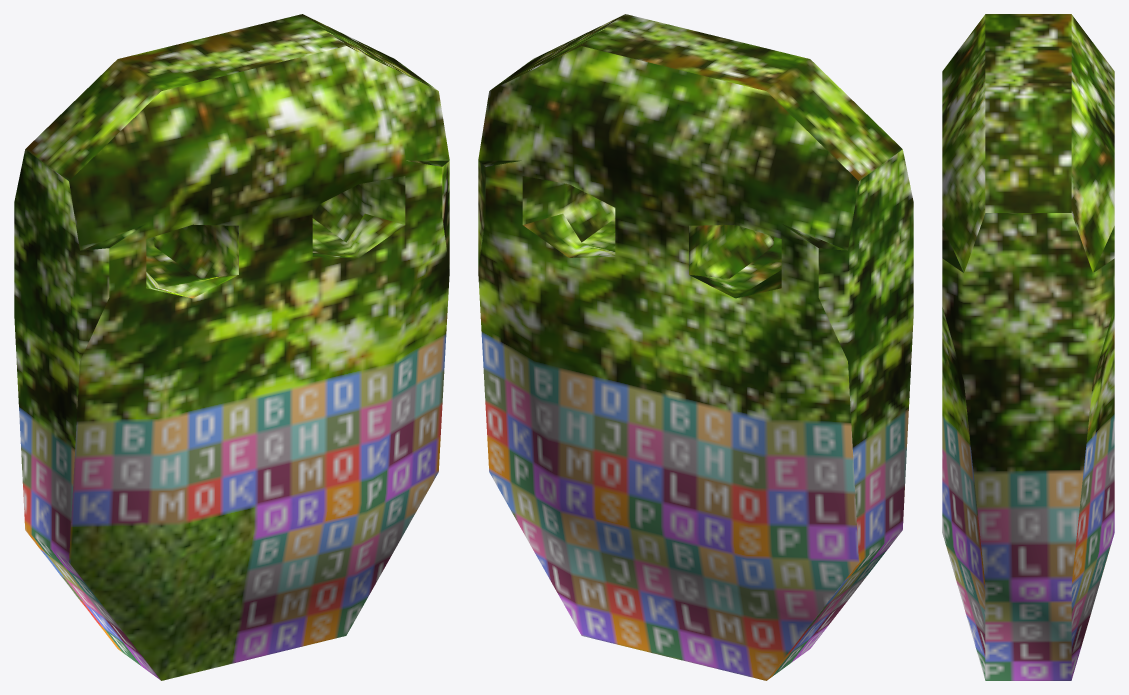
Rendered from Creature2.obj.
3 renders of one model, left to right at view 1: azimuth 30°, elevation 25°; view 2: azimuth 150°, elevation 25°; view 3: azimuth 270°, elevation 25°, orthographic.
Parts seen in each view (by area): view 1: cube2; view 2: cube2; view 3: cube2.
Part boxes in pixels (x1,y1,x2,y2): cube2: (14, 14, 449, 680); cube2: (478, 14, 913, 680); cube2: (942, 14, 1114, 680).
Bounding box in the file's own units: 0.1284 × 0.1957 × 0.0527.
Materials: 1 (1 with a texture image).
